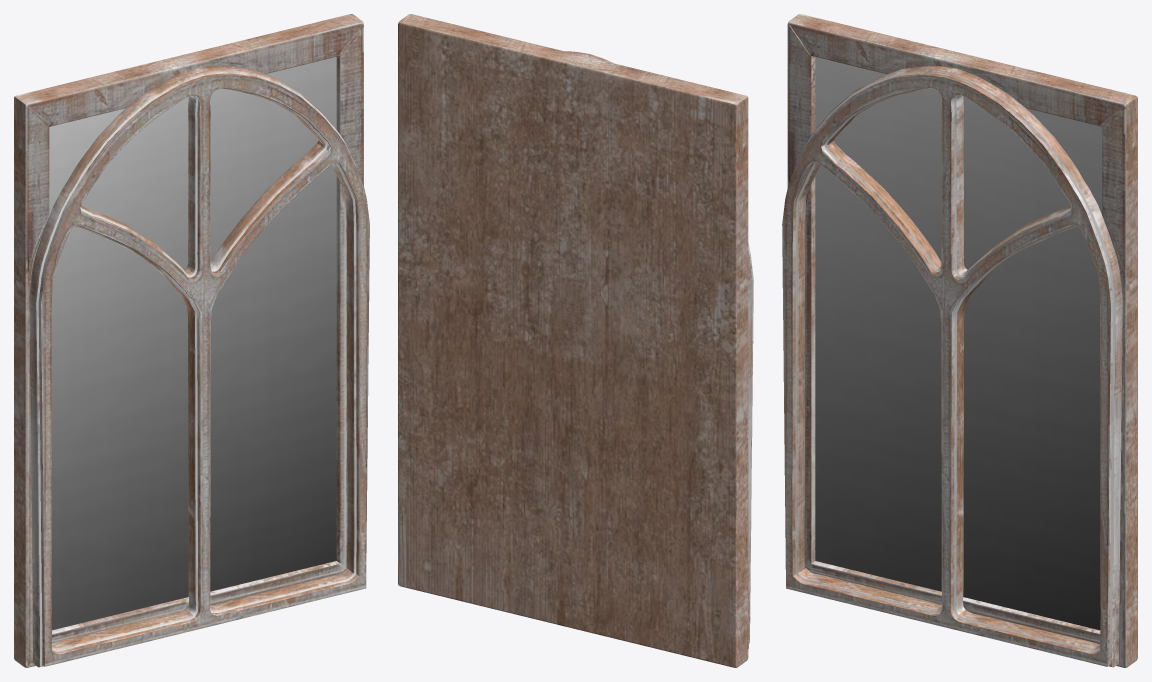
File: B084DQ4YVX.glb
3 renders of one model, left to right at view 1: azimuth 30°, elevation 25°; view 2: azimuth 150°, elevation 25°; view 3: azimuth 330°, elevation 25°, orthographic.
Parts seen in each view (by area): view 1: RootNode; view 2: RootNode; view 3: RootNode.
Part boxes in pixels (x1,y1,x2,y2): RootNode: (14, 14, 369, 667); RootNode: (398, 14, 753, 667); RootNode: (782, 14, 1137, 667).
Size of the model in its own units: 0.4953 by 0.7874 by 0.0582.
1 material, 1 textured.
